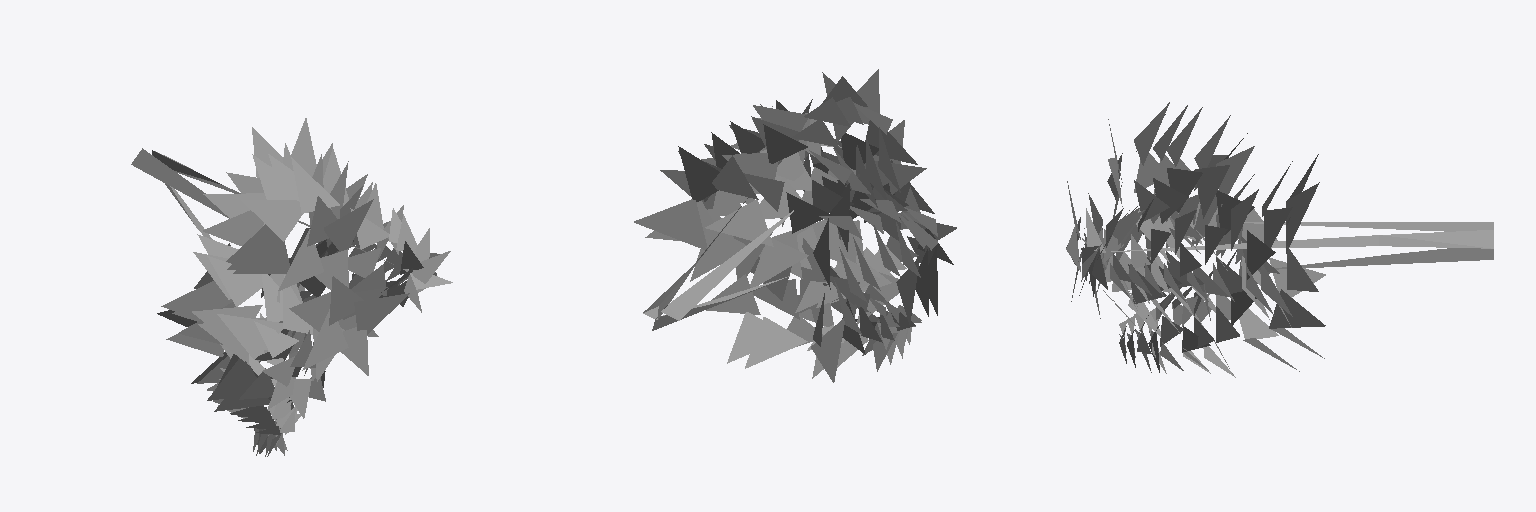
File: jungleTree.obj
The picture shows the model from 3 angles: view 1: azimuth 30°, elevation 25°; view 2: azimuth 150°, elevation 25°; view 3: azimuth 270°, elevation 25°; orthographic projection.
Parts seen in each view (by area): view 1: jungleTree; view 2: jungleTree; view 3: jungleTree.
Part boxes in pixels (x1,y1,x2,y2): jungleTree: (131, 118, 452, 456); jungleTree: (634, 69, 956, 382); jungleTree: (1066, 102, 1493, 377).
Bounding box in the file's own units: 4.7 × 5.61 × 7.5.